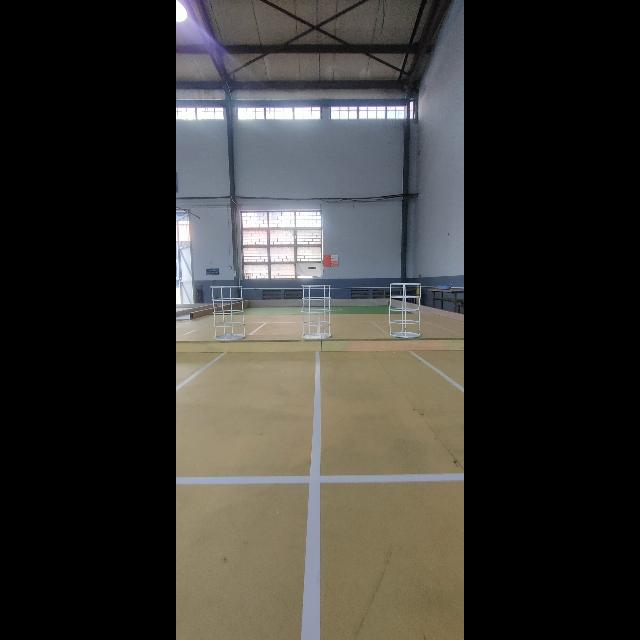S: (210, 286, 246, 342), (388, 283, 422, 339), (300, 284, 332, 340)
